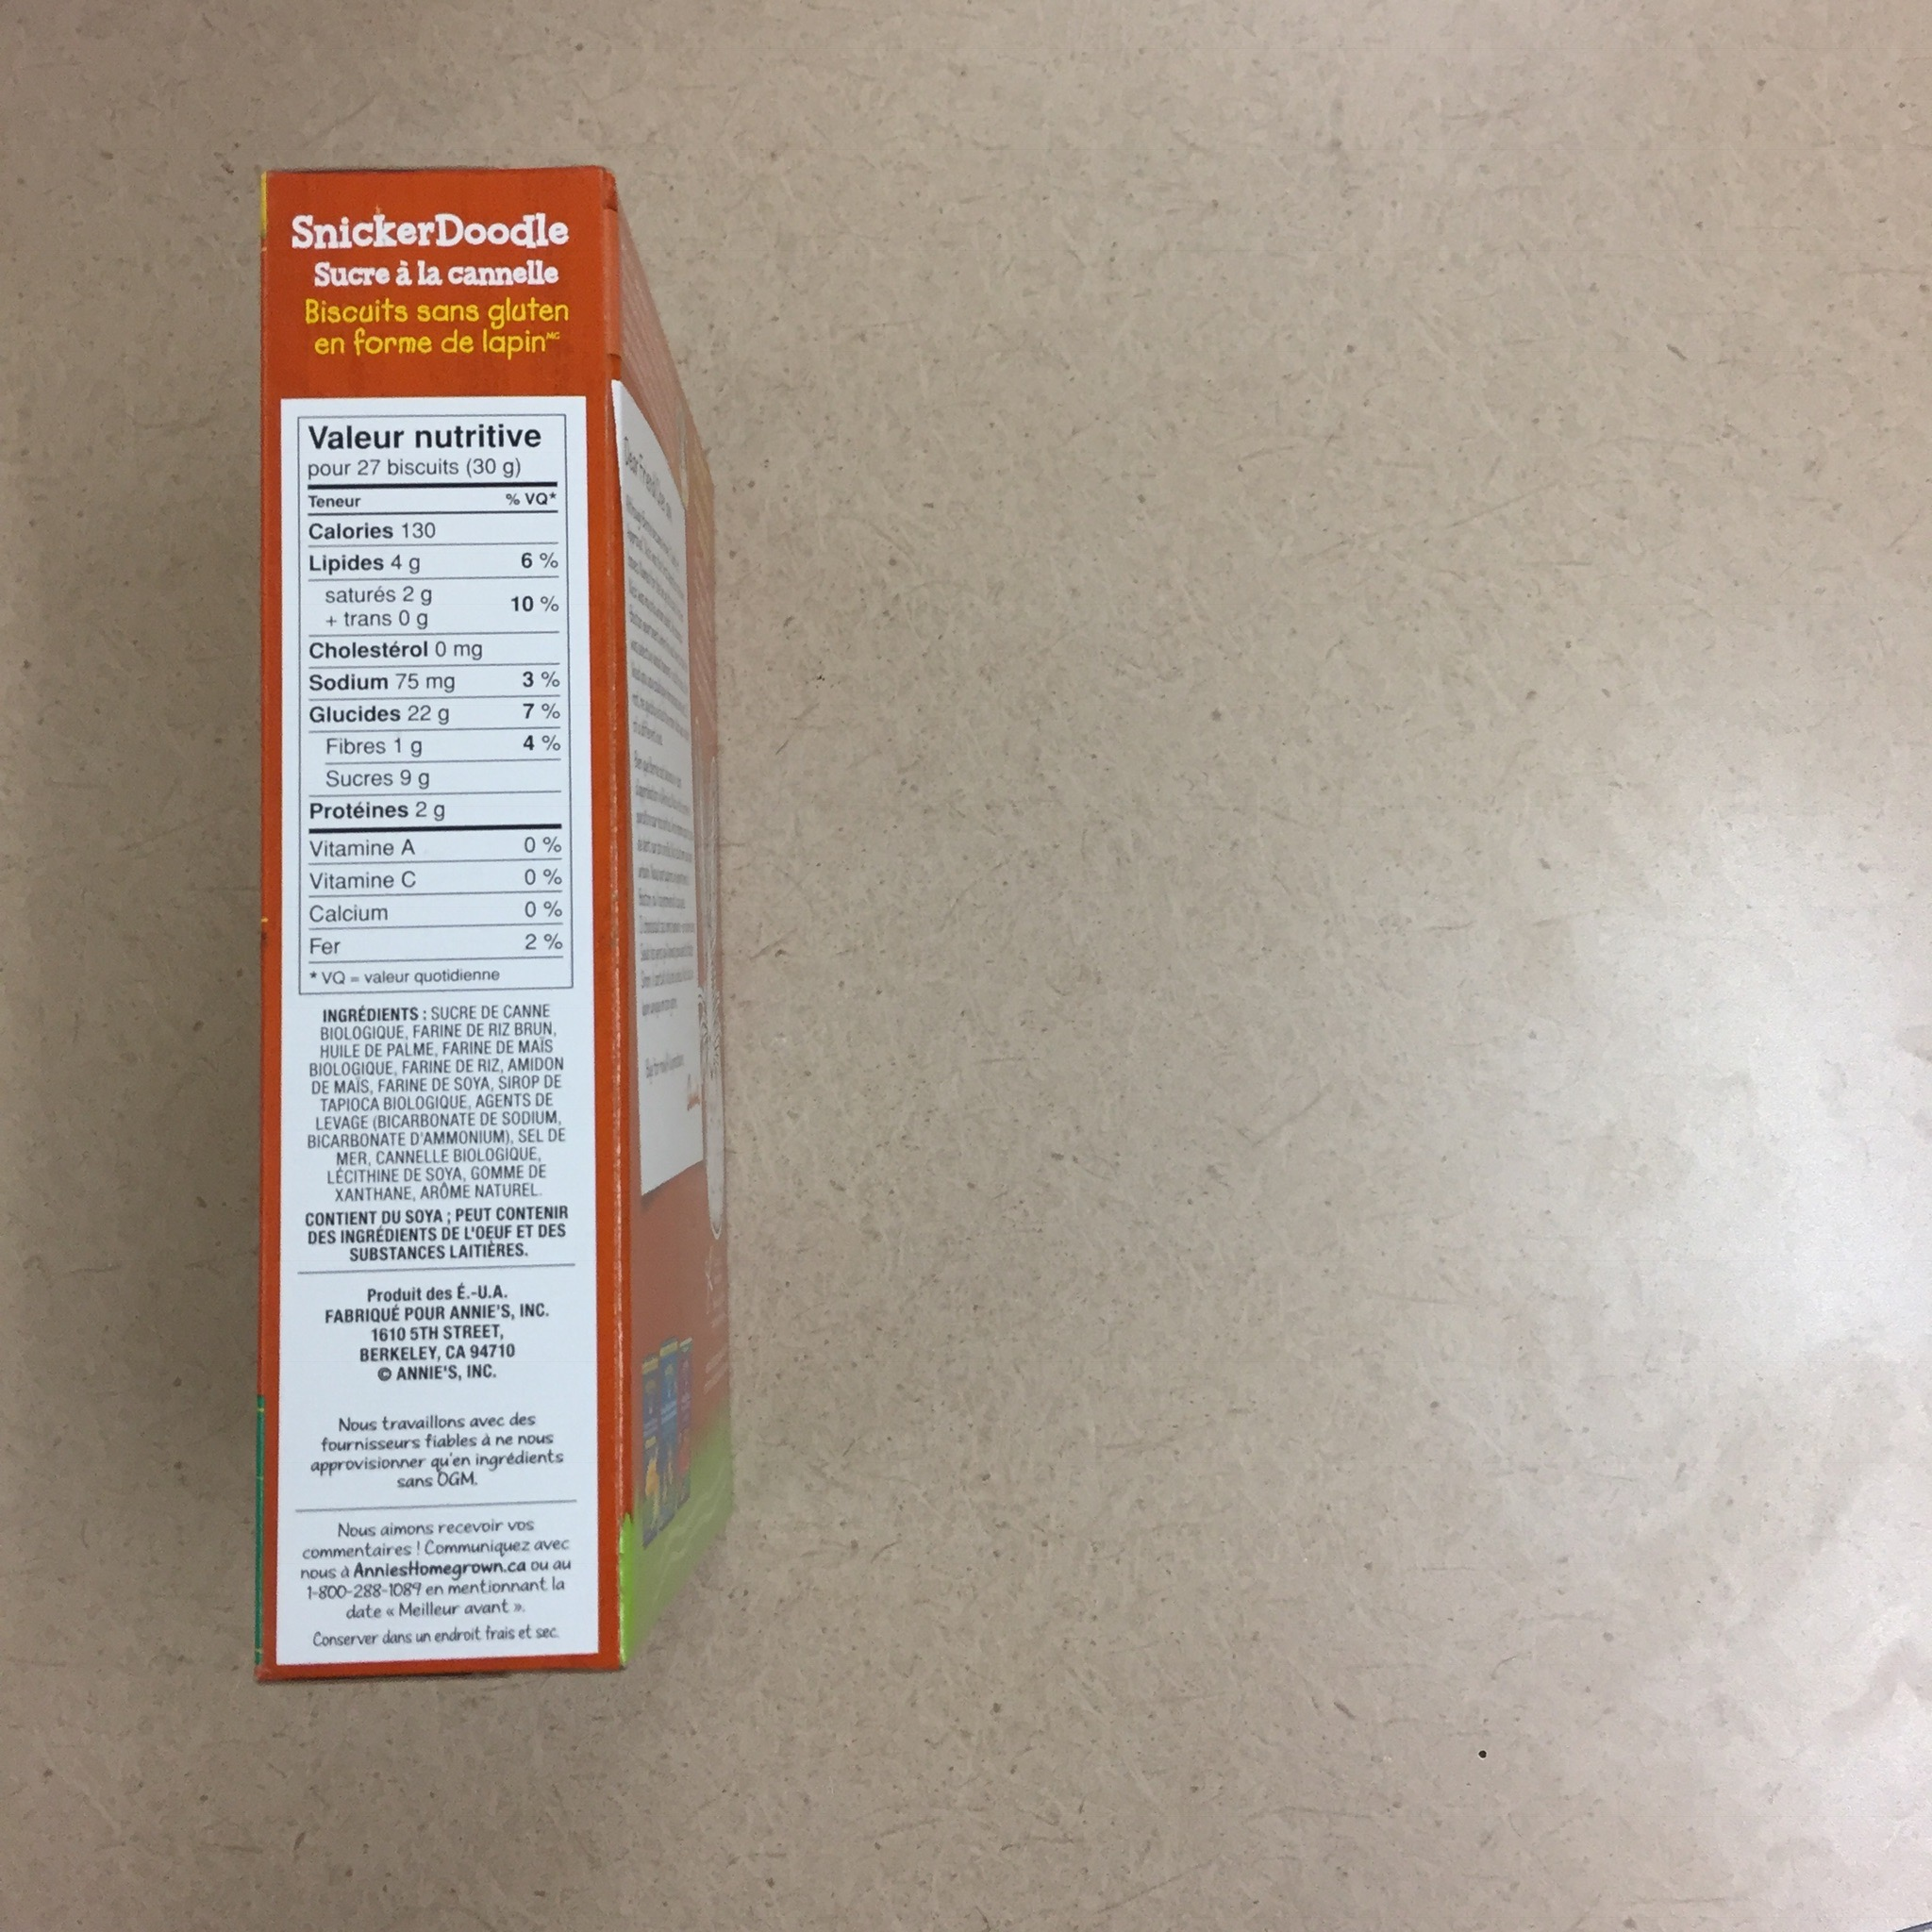annies_snickerdoodle_cinnamon_sugar: (257, 163, 741, 1679)
